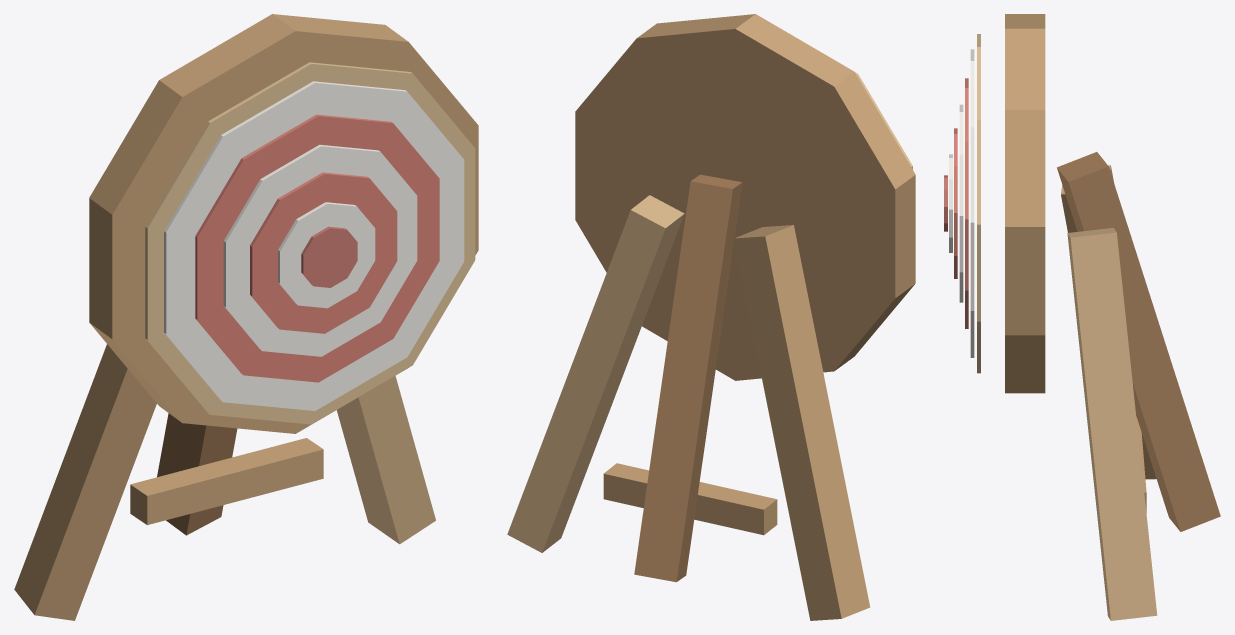
Rendered from target-wood.glb.
The picture shows the model from 3 angles, left to right: view 1: azimuth 30°, elevation 25°; view 2: azimuth 150°, elevation 25°; view 3: azimuth 270°, elevation 25°; orthographic projection. The views are drawn at different scales.
Parts seen in each view (by area): view 1: target-wood_outer_board_5, target-wood_outer_white_7, target-wood_outer_red_8, target-wood_left_foot_1, target-wood_outer_trim_6, target-wood_middle_white_9, target-wood_inner_red_10, target-wood_right_foot_2, target-wood_bottom_crossbar_4, target-wood_bull_white_11, target-wood_rear_stand_3, target-wood_bullseye_12; view 2: target-wood_outer_board_5, target-wood_left_foot_1, target-wood_rear_stand_3, target-wood_right_foot_2, target-wood_bottom_crossbar_4; view 3: target-wood_right_foot_2, target-wood_rear_stand_3, target-wood_outer_board_5, target-wood_outer_white_7, target-wood_outer_trim_6, target-wood_outer_red_8, target-wood_middle_white_9, target-wood_left_foot_1, target-wood_inner_red_10, target-wood_bull_white_11.
Part boxes in pixels (x1=…): target-wood_outer_board_5: x1=89, y1=14, x2=478, y2=433; target-wood_outer_white_7: x1=164, y1=81, x2=464, y2=410; target-wood_outer_red_8: x1=195, y1=114, x2=439, y2=382; target-wood_left_foot_1: x1=14, y1=344, x2=156, y2=620; target-wood_outer_trim_6: x1=145, y1=62, x2=475, y2=424; target-wood_middle_white_9: x1=223, y1=144, x2=417, y2=356; target-wood_inner_red_10: x1=250, y1=172, x2=397, y2=333; target-wood_right_foot_2: x1=336, y1=376, x2=435, y2=544; target-wood_bottom_crossbar_4: x1=130, y1=438, x2=323, y2=525; target-wood_bull_white_11: x1=278, y1=202, x2=375, y2=308; target-wood_rear_stand_3: x1=157, y1=413, x2=237, y2=535; target-wood_bullseye_12: x1=301, y1=226, x2=357, y2=287; target-wood_outer_board_5: x1=575, y1=14, x2=915, y2=380; target-wood_left_foot_1: x1=734, y1=225, x2=870, y2=620; target-wood_rear_stand_3: x1=634, y1=174, x2=742, y2=582; target-wood_right_foot_2: x1=507, y1=195, x2=684, y2=552; target-wood_bottom_crossbar_4: x1=603, y1=463, x2=777, y2=535; target-wood_right_foot_2: x1=1067, y1=228, x2=1157, y2=620; target-wood_rear_stand_3: x1=1057, y1=152, x2=1220, y2=531; target-wood_outer_board_5: x1=1005, y1=14, x2=1045, y2=393; target-wood_outer_white_7: x1=970, y1=49, x2=974, y2=357; target-wood_outer_trim_6: x1=977, y1=34, x2=980, y2=373; target-wood_outer_red_8: x1=965, y1=78, x2=968, y2=328; target-wood_middle_white_9: x1=959, y1=104, x2=963, y2=302; target-wood_left_foot_1: x1=1061, y1=165, x2=1156, y2=479; target-wood_inner_red_10: x1=954, y1=128, x2=957, y2=278; target-wood_bull_white_11: x1=949, y1=154, x2=952, y2=252.
Bounding box in the file's own units: 1.28 × 1.84 × 0.8883.
